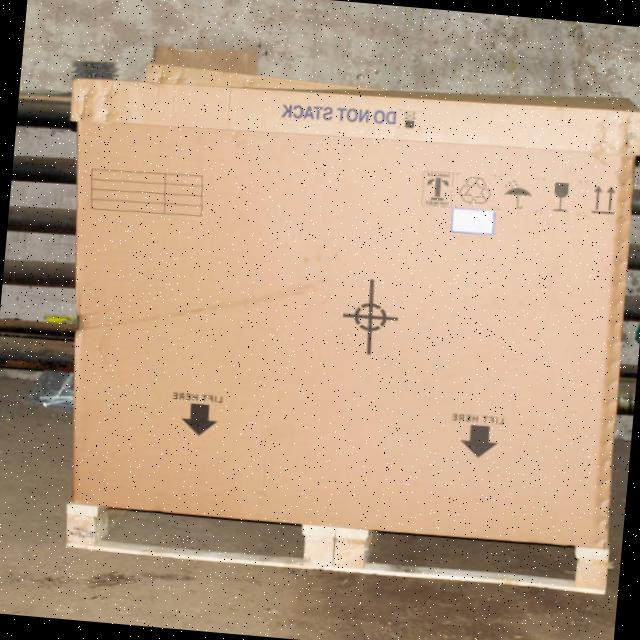Wooden-Pallets: (60, 501, 611, 598)
